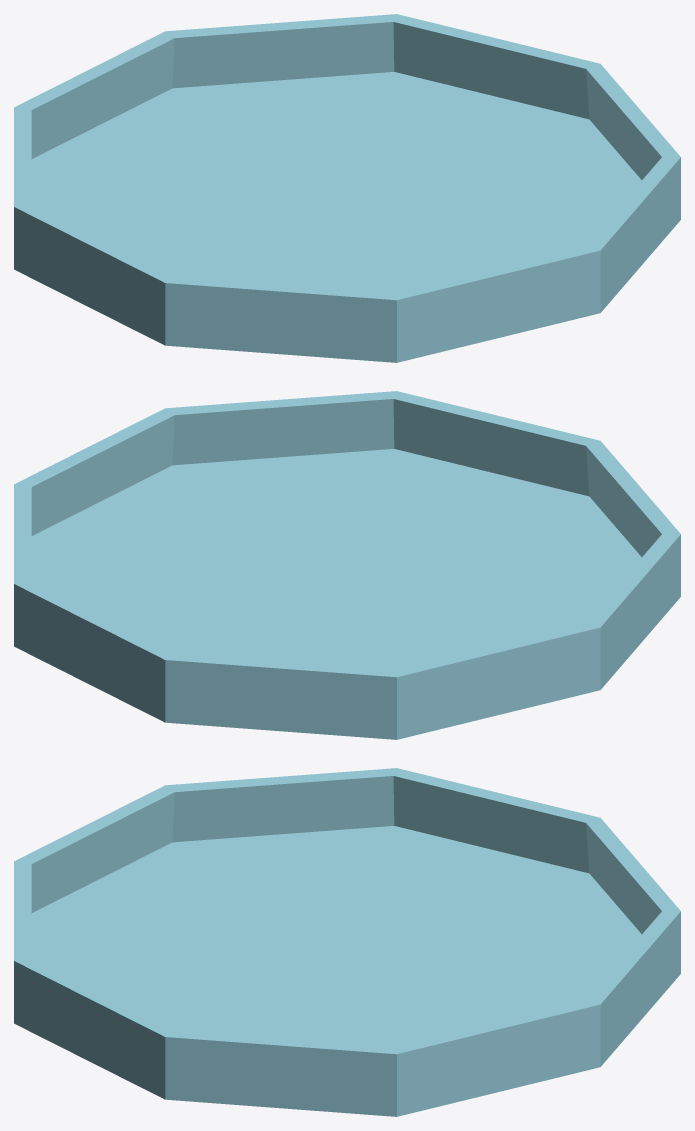
Rendered from Petri.fbx.
The picture shows the model from 3 angles, top to bottom: view 1: azimuth 30°, elevation 25°; view 2: azimuth 150°, elevation 25°; view 3: azimuth 270°, elevation 25°; orthographic projection.
Visible parts, largest first — view 1: Petri; view 2: Petri; view 3: Petri.
Boxes of the visible parts, bbox=[...] form: Petri: bbox=[14, 14, 680, 362]; Petri: bbox=[14, 391, 680, 739]; Petri: bbox=[14, 768, 680, 1116].
Size of the model in its own units: 197 by 20.11 by 194.
